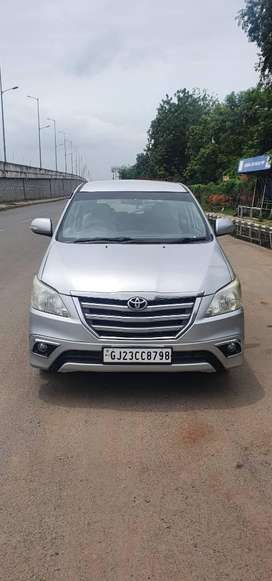GJ23CC8798: (102, 348, 172, 365)
